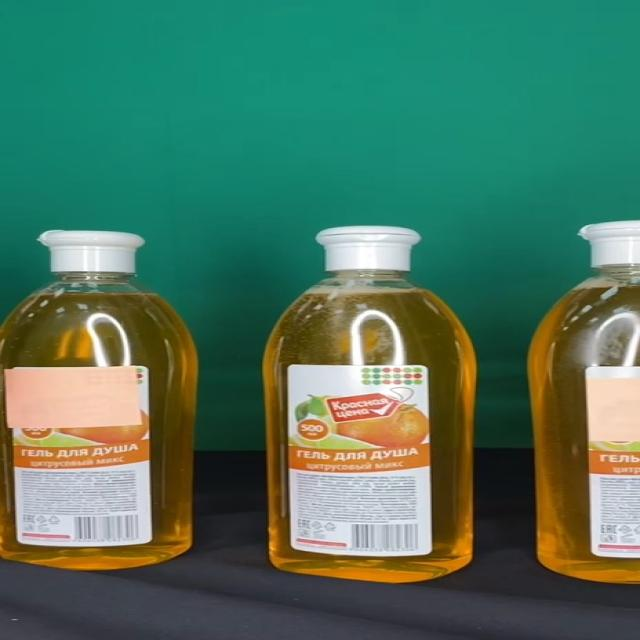Bottle: (262, 226, 477, 582), (0, 230, 195, 570)
Cap: (38, 231, 143, 274), (316, 227, 419, 270)
